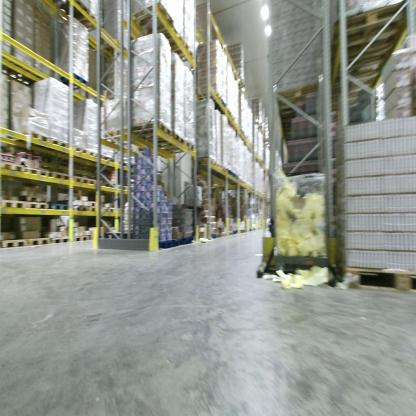pallet: (328, 0, 405, 53), (329, 46, 393, 87), (342, 263, 415, 295), (273, 78, 323, 116), (135, 2, 173, 35), (158, 11, 187, 52), (129, 113, 174, 139), (146, 125, 185, 148), (57, 63, 87, 92), (153, 135, 197, 152), (58, 0, 87, 22), (1, 156, 30, 177), (173, 41, 196, 67), (1, 193, 28, 214), (47, 133, 73, 153), (27, 125, 47, 148), (27, 198, 53, 214), (49, 199, 70, 216), (28, 232, 50, 248), (69, 195, 87, 213), (40, 164, 58, 181), (51, 232, 72, 246), (55, 164, 72, 181), (71, 232, 90, 247), (25, 161, 43, 176), (2, 241, 28, 251), (72, 171, 89, 185), (85, 146, 100, 160), (86, 197, 102, 208), (72, 143, 86, 155), (86, 173, 97, 188), (108, 204, 122, 215)
stillage: (269, 155, 335, 276)
